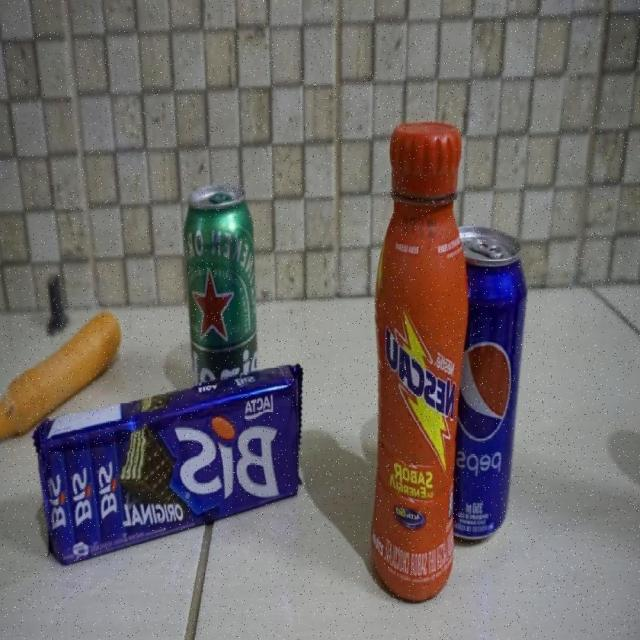BeerCan: (183, 184, 261, 388)
Carrot: (0, 311, 121, 439)
ChocolateMilk: (370, 123, 470, 602)
SodaCan: (452, 225, 528, 544)
